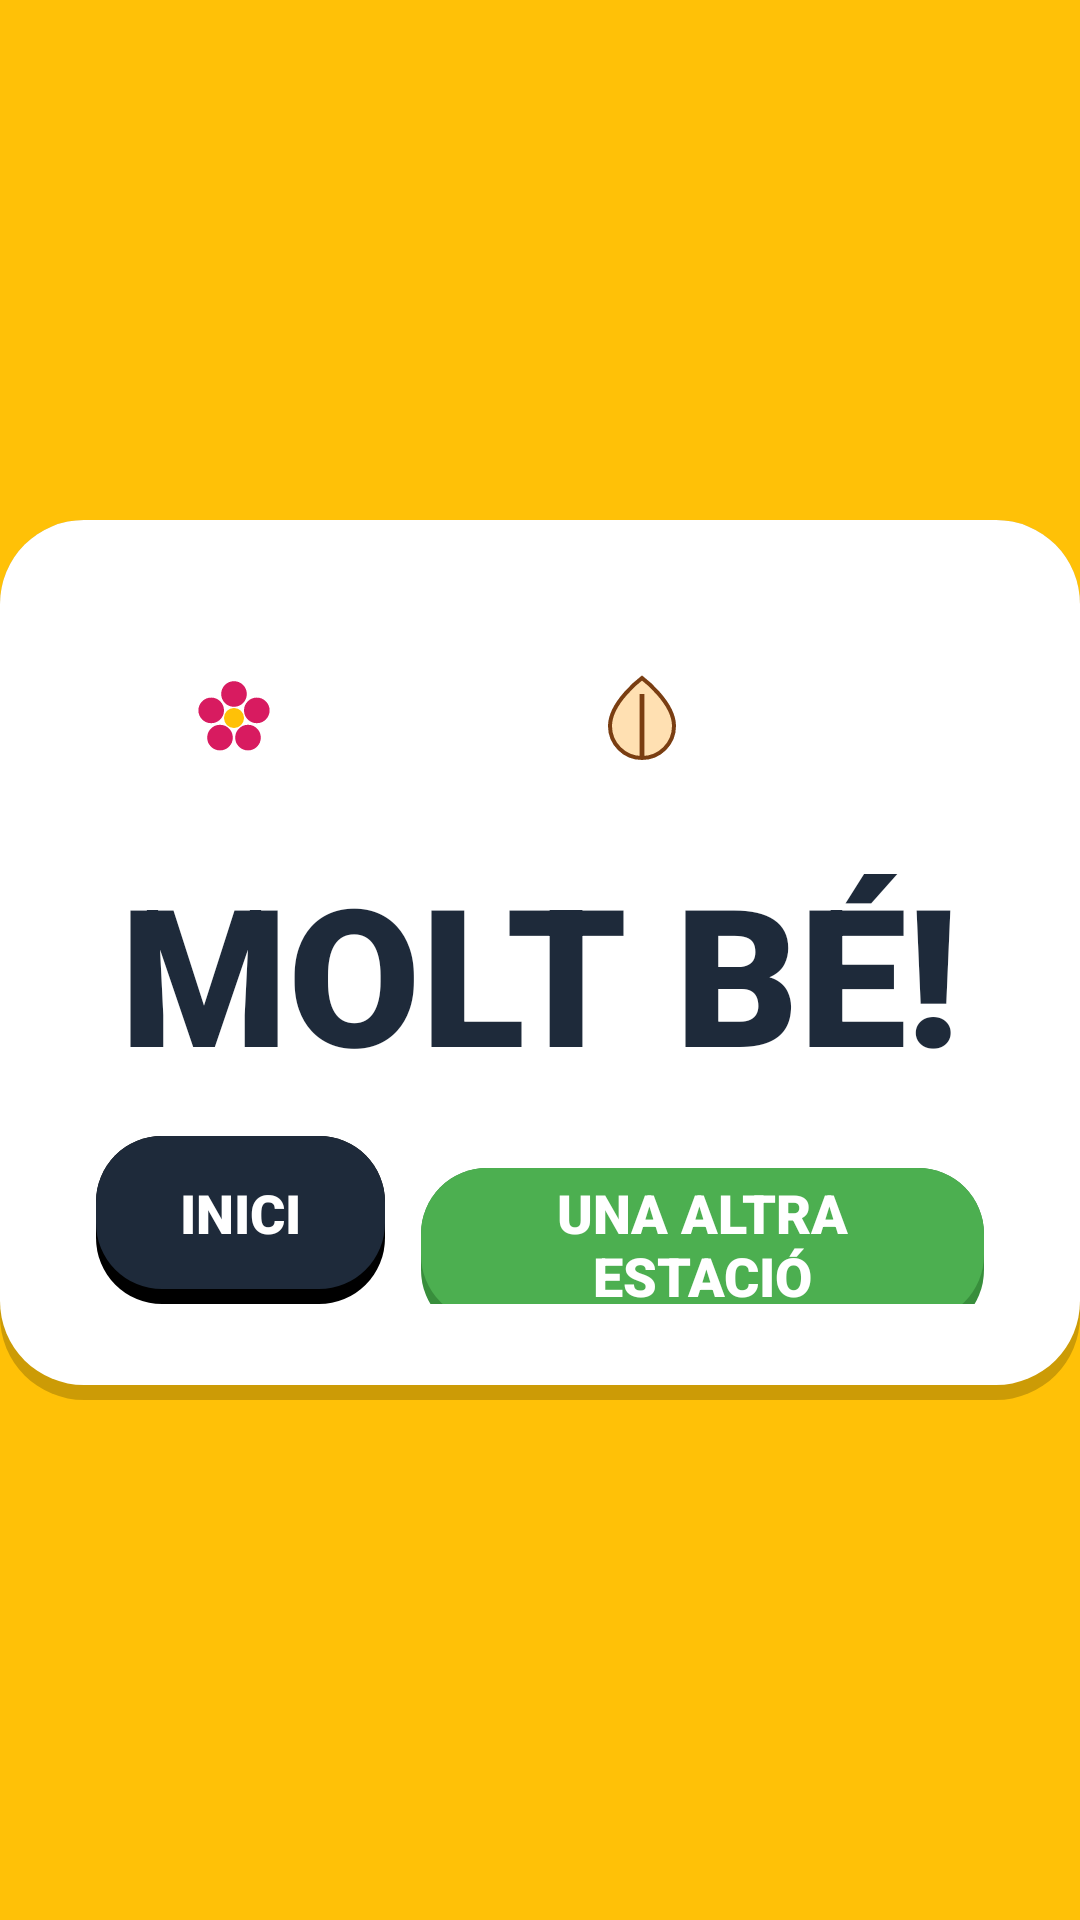

Icons on this 1080px x 1920px Android screen, each with the point to tap as (x=x, y=y):
otono: (x=642, y=717)
primavera: (x=234, y=716)
